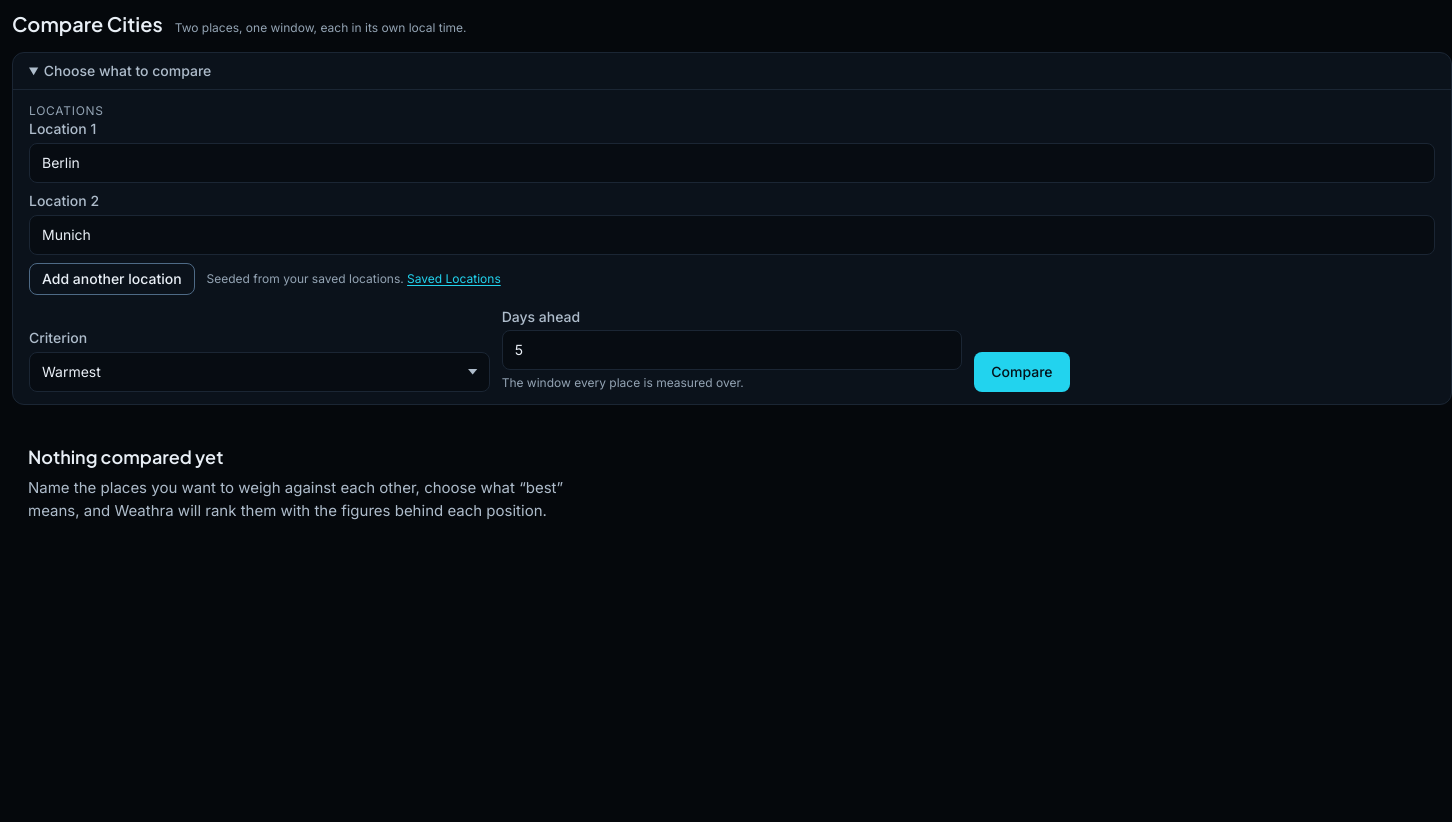
Test case: Compare Cities › stays accessible while a row is asking which place was meant
Expected: the field labelled "Location 1" is shown, 29,143 -> 1435,183
Replace the text in the field labelled "Location 2" with "Springfield" at (732, 235), box 29,215 -> 1435,255
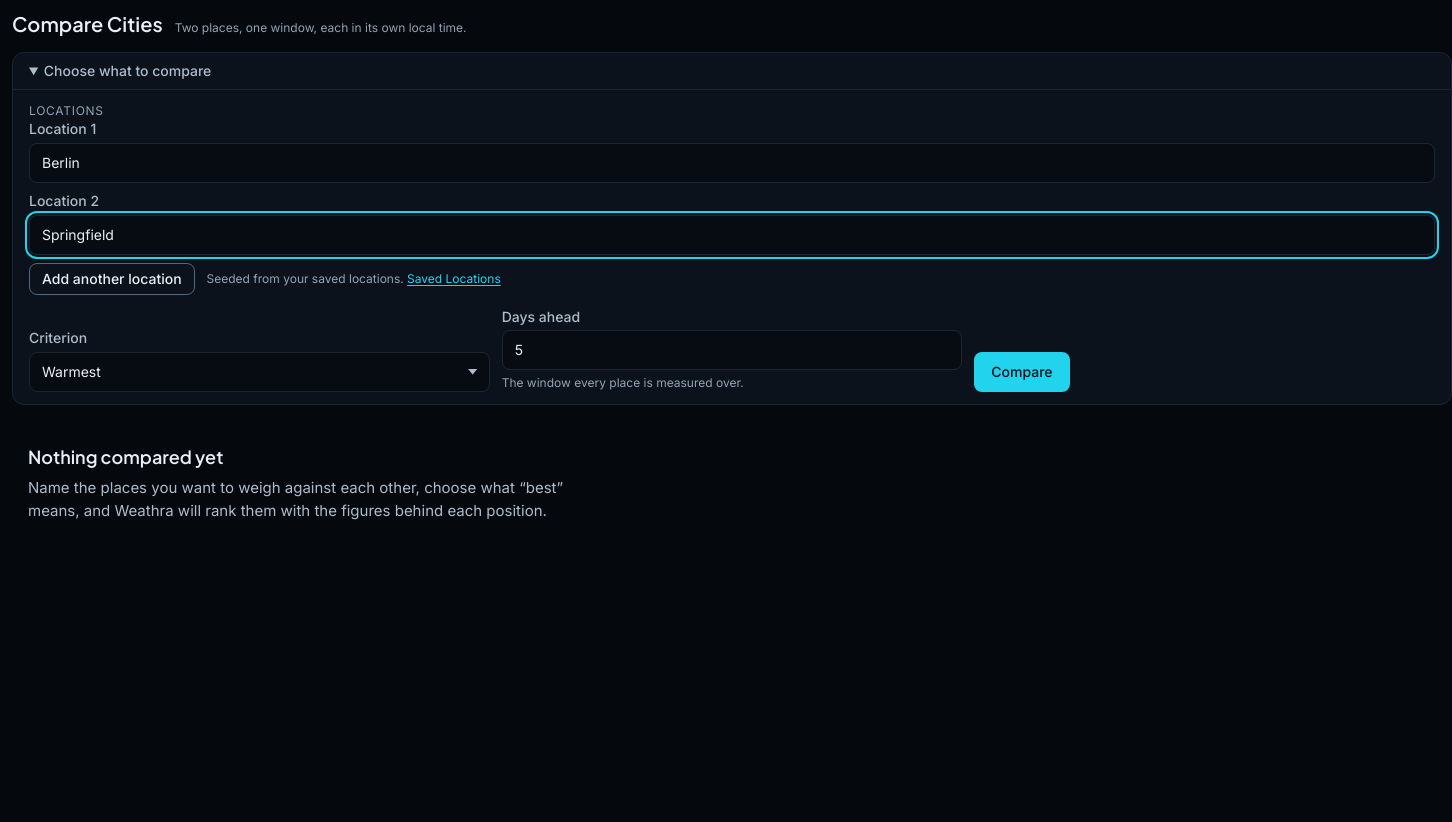
Click the button "Compare" at (1022, 372), box 974,352 -> 1070,392
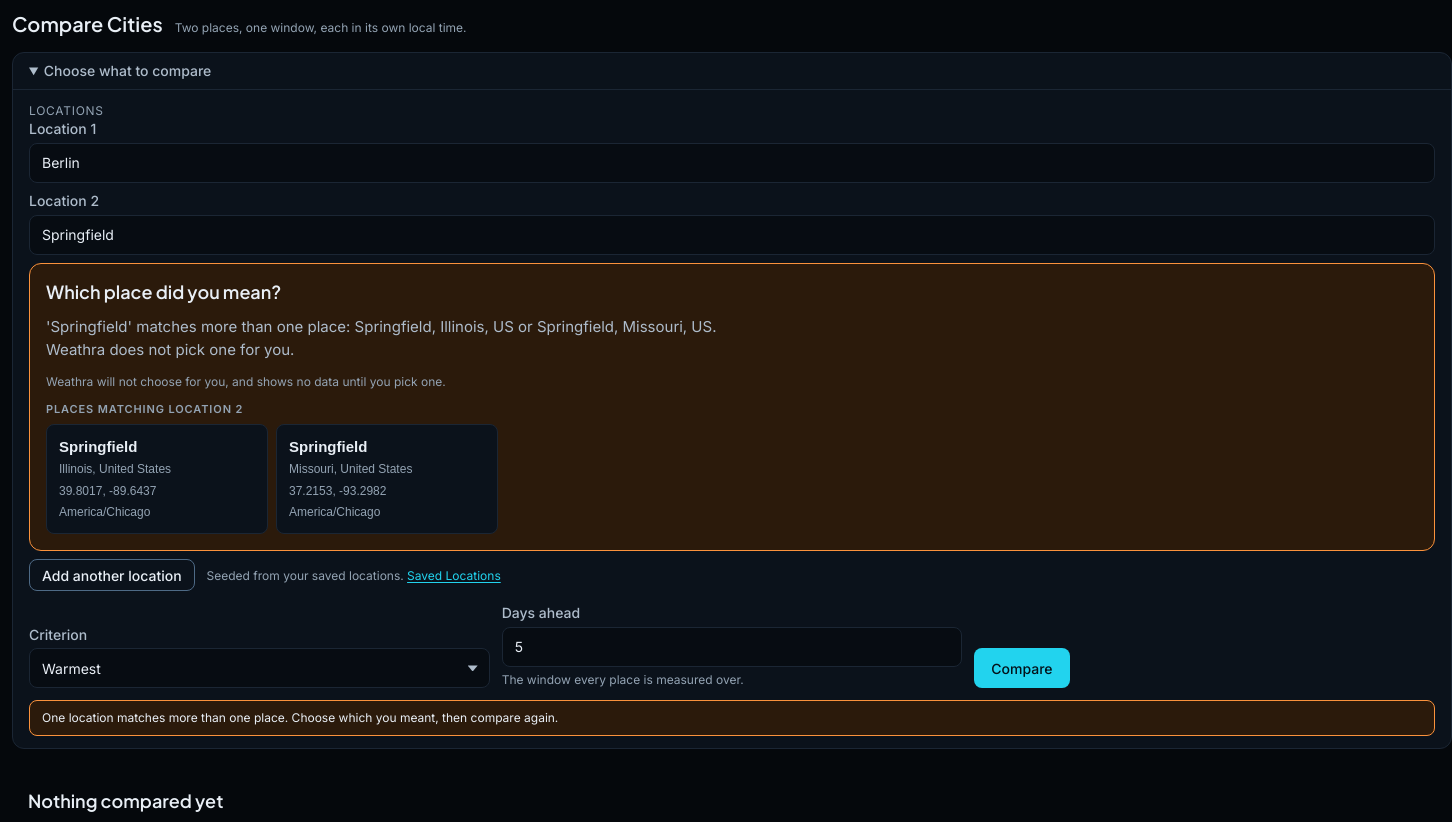
Now the element "Places matching location 2" is shown, box 46,402 -> 498,534
Now the heading "Which place did you mean?" is shown, box 46,280 -> 281,303
